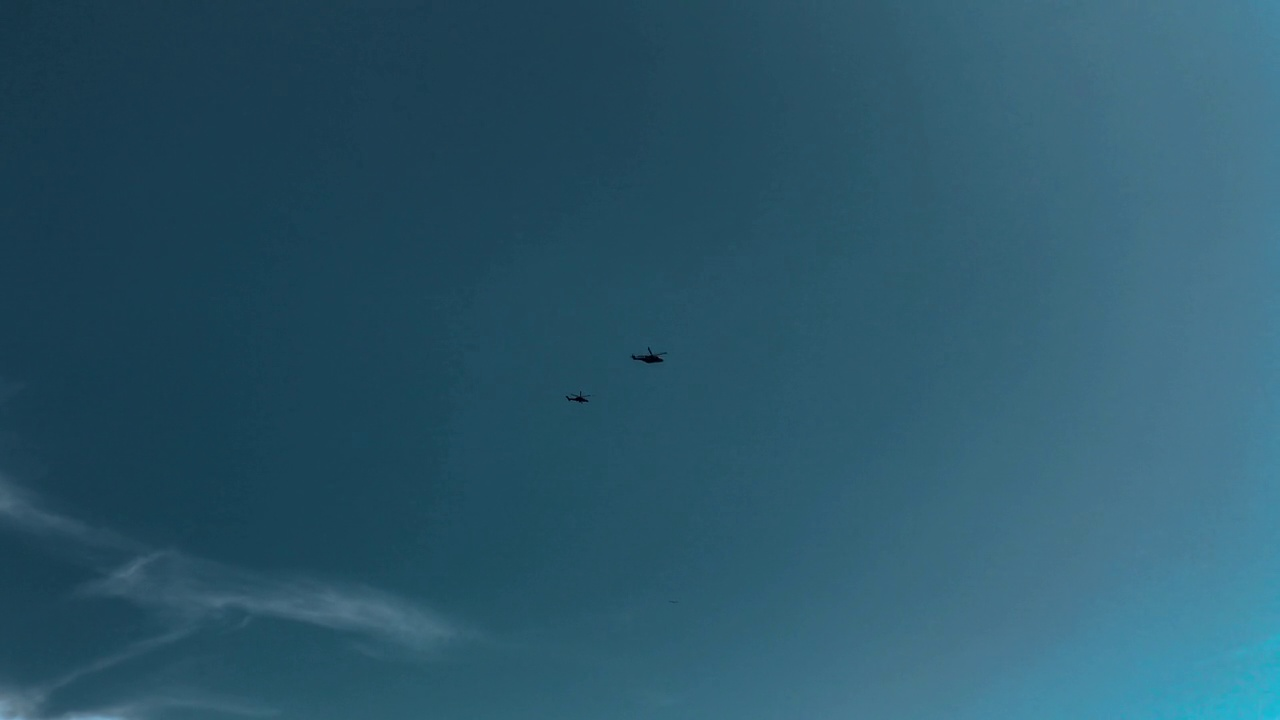heli: (630, 346, 666, 364), (566, 390, 590, 403)
